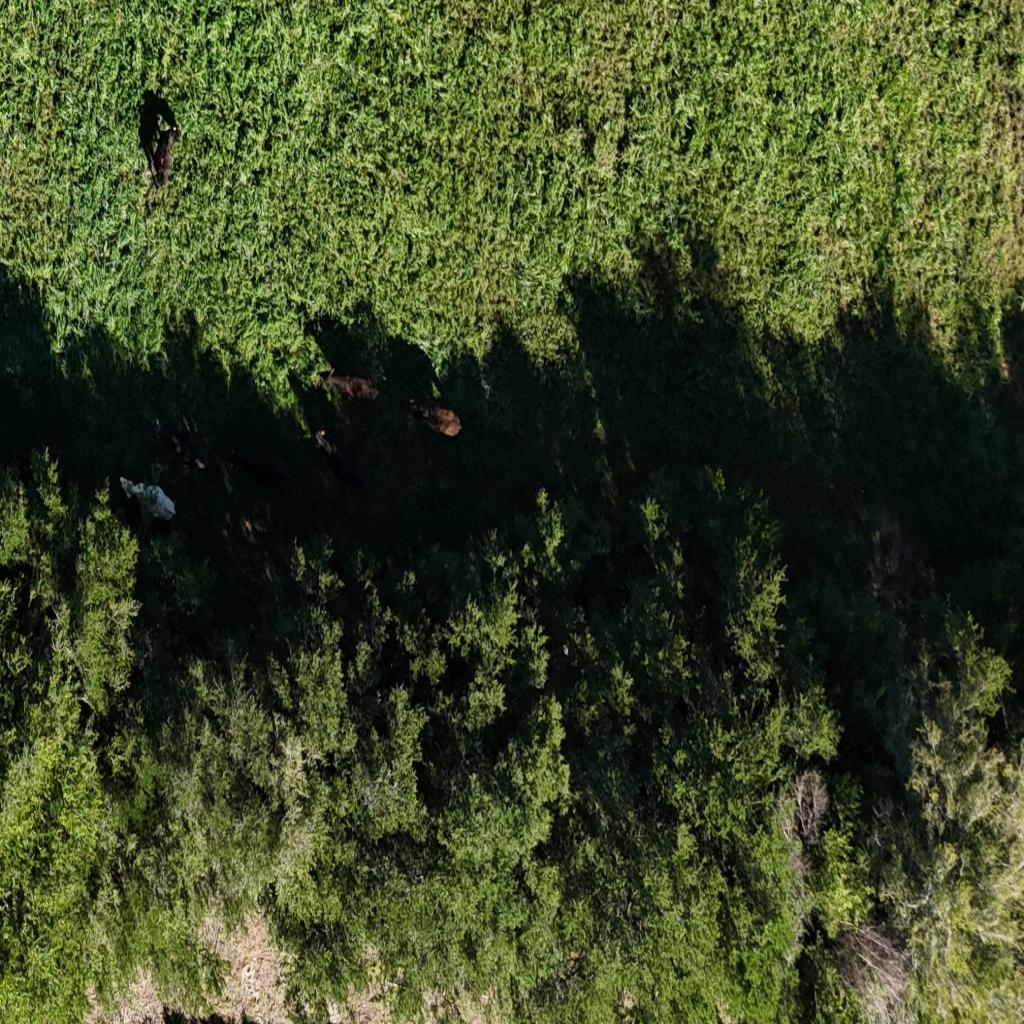cow: (140, 94, 182, 189), (399, 382, 463, 440), (120, 477, 178, 532), (320, 367, 382, 403)
